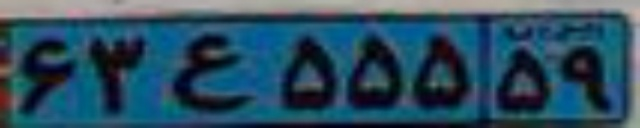3: (85, 37, 149, 112)
5: (409, 33, 476, 111), (344, 34, 402, 110), (277, 36, 335, 110), (492, 47, 551, 114)
6: (15, 39, 76, 115)
9: (557, 45, 615, 113)
ain: (169, 32, 249, 111)
